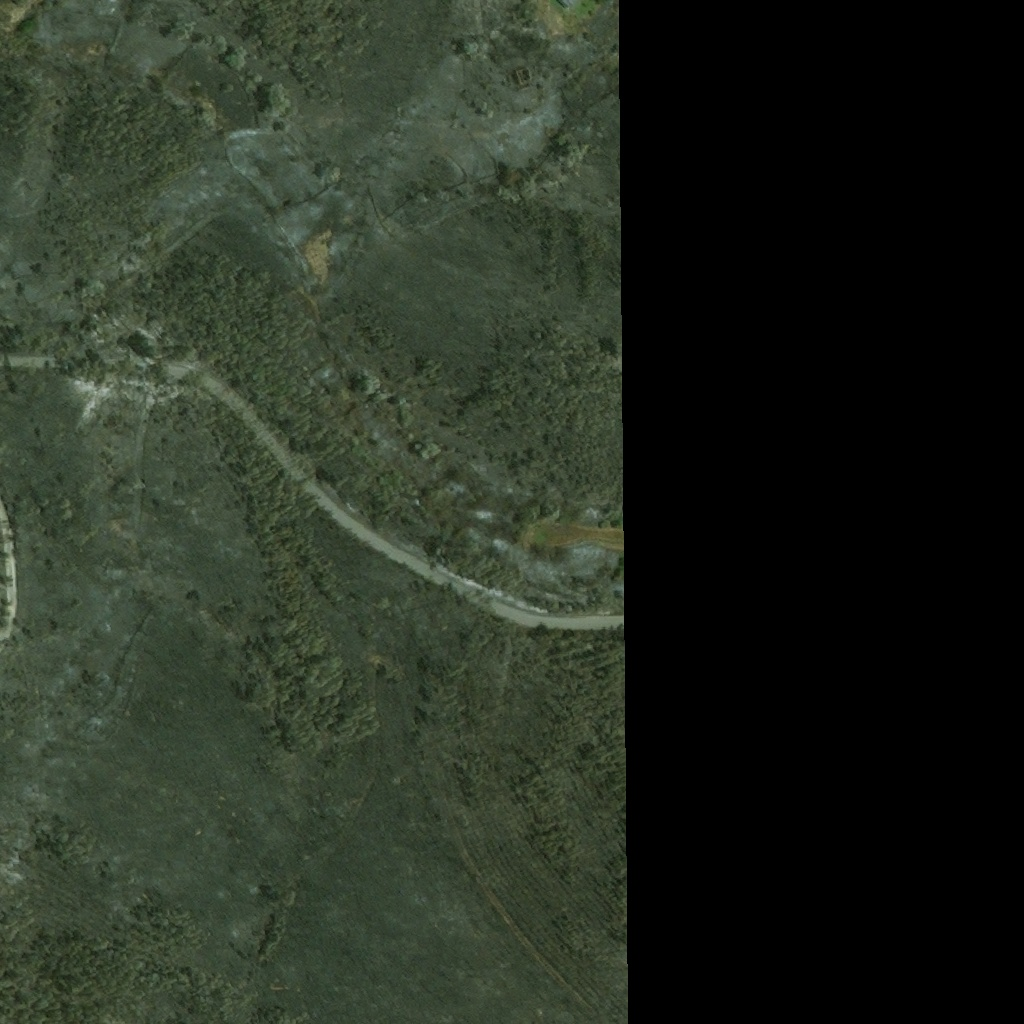0 no-damage: (557, 0, 585, 10)
